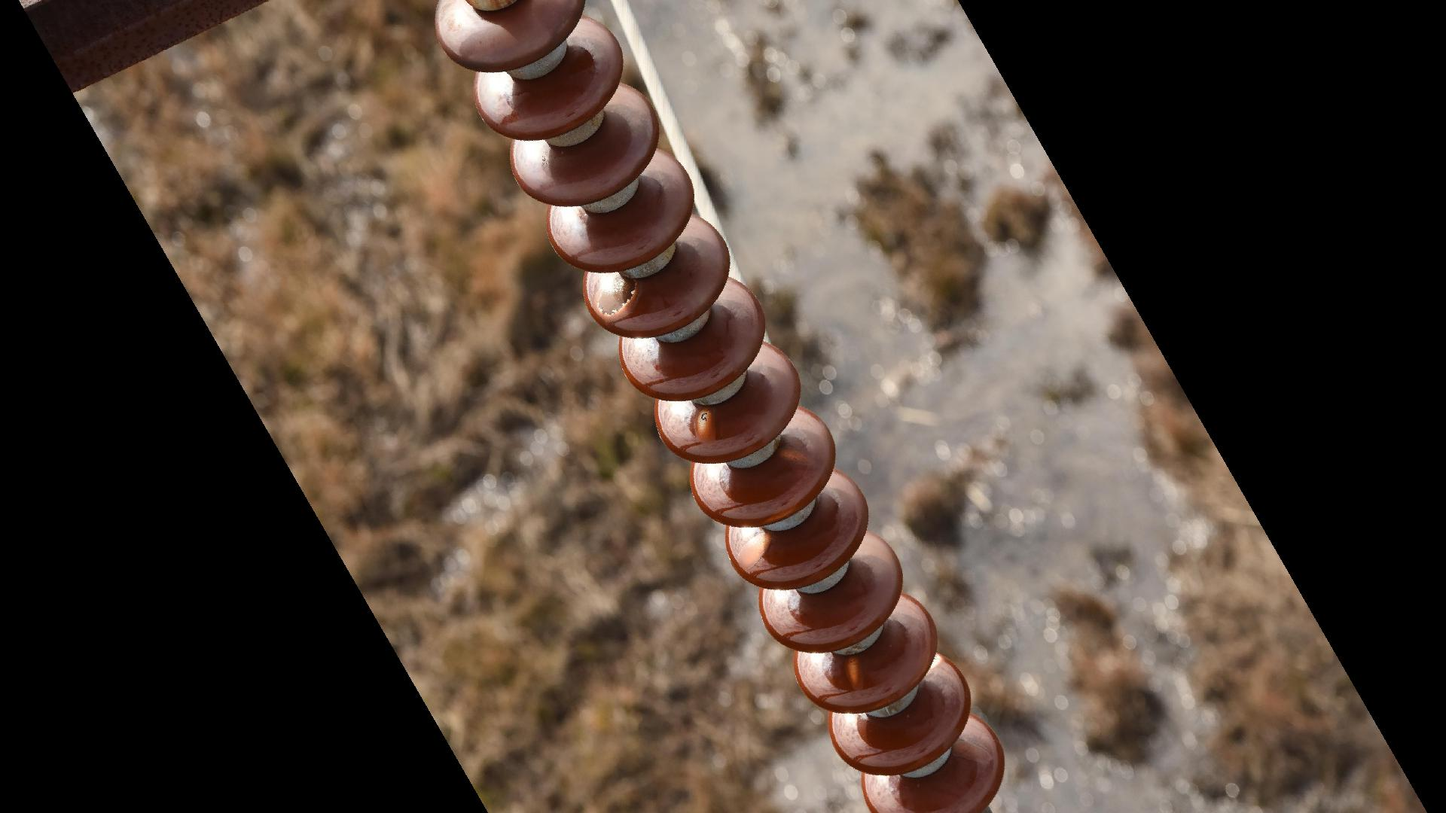insulator: (429, 1, 1013, 813)
insulator_flashover: (593, 266, 639, 320), (734, 530, 774, 573), (691, 407, 718, 441), (844, 655, 865, 692)
